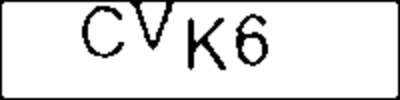6: (233, 13, 269, 68)
C: (77, 1, 127, 62)
V: (128, 1, 177, 53)
X: (180, 15, 230, 76)
